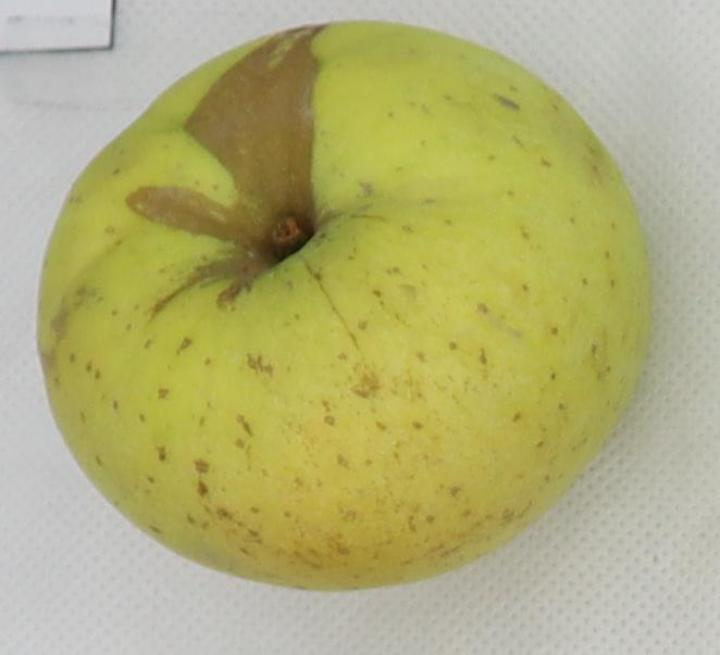apple: (39, 22, 648, 588)
bruise_discoloration: (127, 27, 322, 316)
